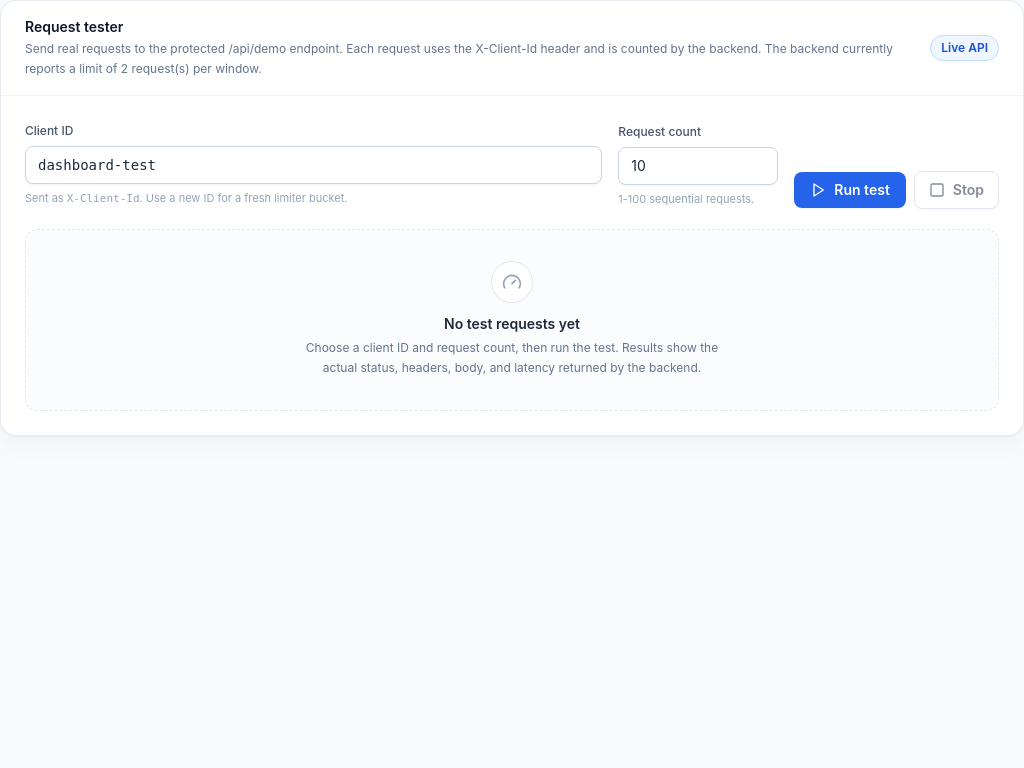
RequestTester › reports a network failure without fabricating an HTTP response
Replace the text in the field labelled "Client ID" with "phase1-offline". click: (314, 165)
box: left=25, top=146, right=602, bottom=184
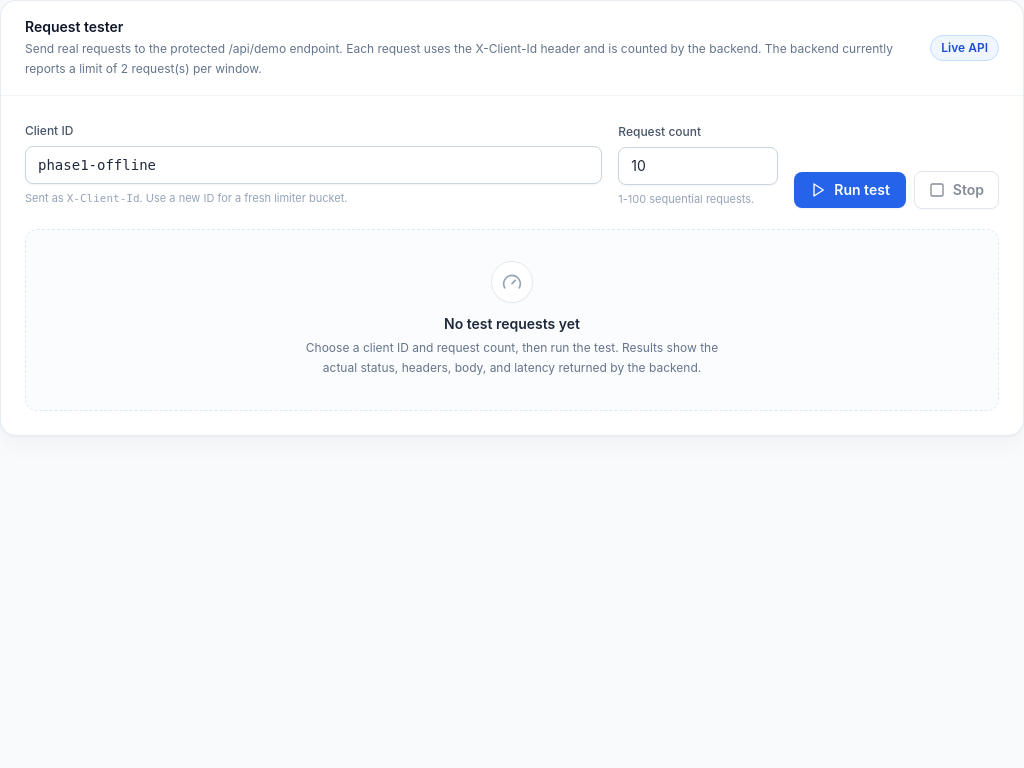
Replace the text in the number field labelled "Request count" with "1". click: (698, 166)
box: left=618, top=147, right=778, bottom=185
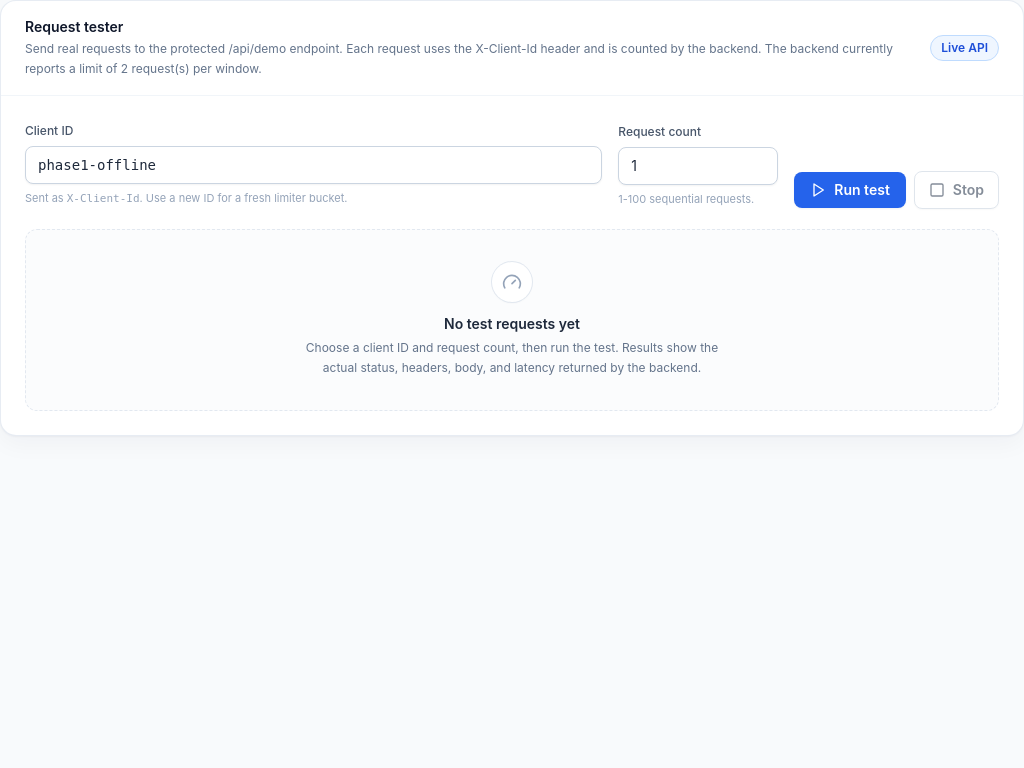
Click the button "Run test". click: (850, 190)
box: left=794, top=172, right=906, bottom=208
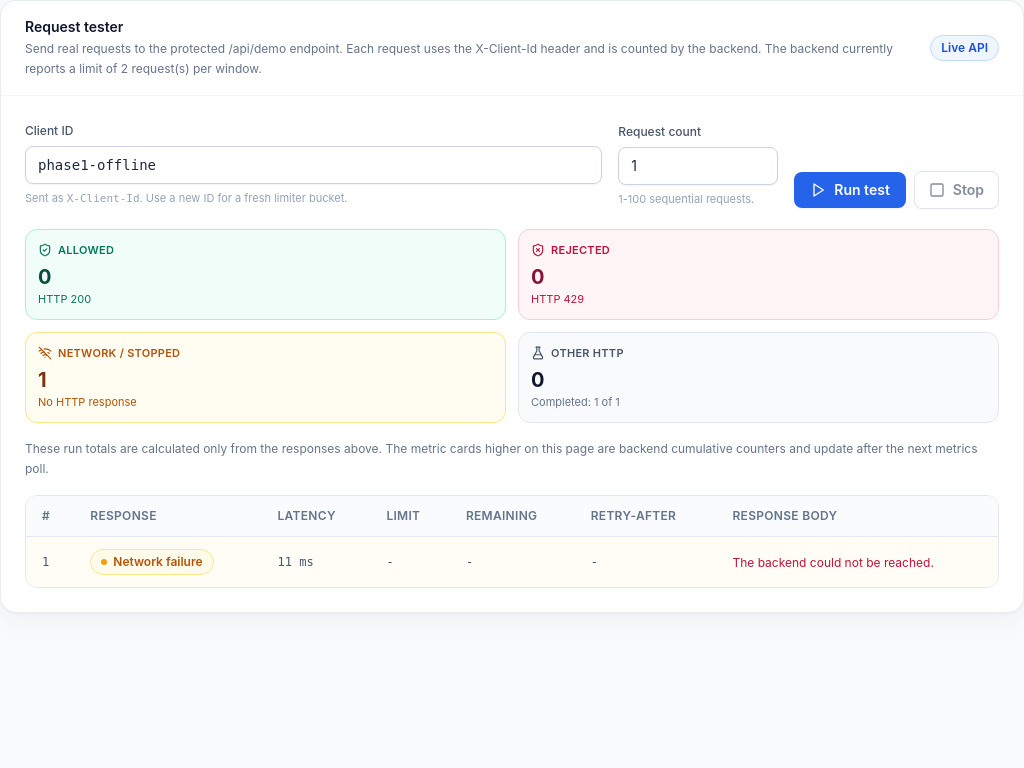
Expected: the text with test id "request-tester-failed" reads "1", left=38, top=368, right=47, bottom=392
Expected: the text "Network failure" is shown, left=90, top=549, right=214, bottom=575
Expected: the text "The backend could not be reached." is shown, left=732, top=555, right=934, bottom=570
